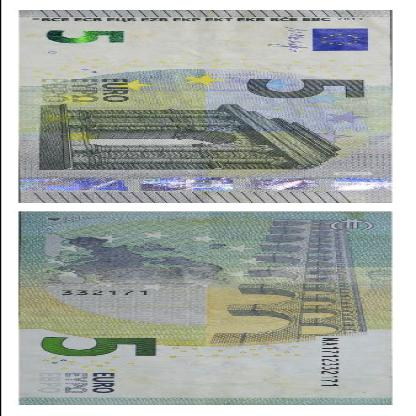euro_banknote: (20, 211, 394, 406), (19, 11, 393, 204)
